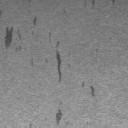red iron: (56, 50, 62, 83), (5, 27, 13, 48), (56, 109, 62, 126), (90, 86, 95, 97), (33, 16, 37, 26), (18, 30, 22, 40), (16, 46, 22, 52), (30, 58, 34, 66), (56, 41, 60, 48), (92, 0, 95, 9)
